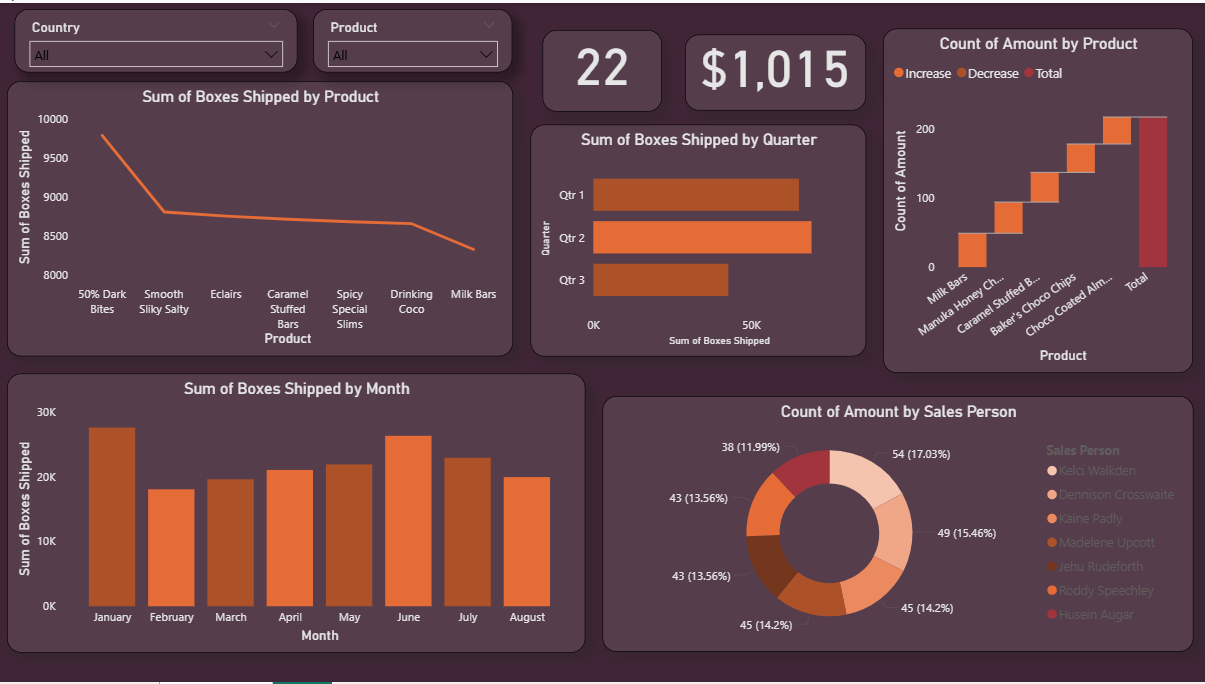

What the dashboard file says about the page in this screenshot:
{"tool":"powerbi","page":{"name":"Page 1","canvas":[1280,720],"ordinal":0},"visuals":[{"type":"clusteredBarChart","fields":{"Category":["Chocolate Sales.Date.Variation.Date Hierarchy.Quarter"],"Y":["Chocolate Sales.Boxes Shipped"]},"box":[565.4,128.8,355.8,246.2],"z":0},{"type":"clusteredColumnChart","fields":{"Category":["Chocolate Sales.Date.Variation.Date Hierarchy.Month"],"Y":["Chocolate Sales.Boxes Shipped"]},"box":[9.6,392.3,613.5,296.2],"z":1000},{"type":"donutChart","fields":{"Category":["Chocolate Sales.Sales Person"],"Y":["Chocolate Sales.Amount"]},"box":[640.4,417.3,626.9,271.2],"z":2000},{"type":"lineChart","fields":{"Category":["Chocolate Sales.Product"],"Y":["Chocolate Sales.Boxes Shipped"]},"box":[9.6,82.7,536.5,292.3],"z":3000},{"type":"waterfallChart","fields":{"Category":["Chocolate Sales.Product"],"Y":["Chocolate Sales.Amount"]},"box":[938.5,26.9,328.8,365.4],"z":4000},{"type":"card","fields":{"Values":["Chocolate Sales.Amount"]},"box":[728.8,32.7,192.3,80.8],"z":5000},{"type":"card","fields":{"Values":["Chocolate Sales.Product"]},"box":[576.9,28.8,126.9,86.5],"z":6000},{"type":"slicer","fields":{"Values":["Chocolate Sales.Country"]},"box":[17.3,5.8,300,67.3],"z":7000},{"type":"slicer","fields":{"Values":["Chocolate Sales.Product"]},"box":[334.6,5.8,211.5,67.3],"z":8000}]}

Visuals, with their boxes in screenshot pixels (x1, y1, x2, y2), scaled from the page's 1280x720 canvas onto the 1205x684 screenshot:
clusteredBarChart - Chocolate Sales.Date.Variation.Date Hierarchy.Quarter x Chocolate Sales.Boxes Shipped: box(532, 122, 867, 356)
clusteredColumnChart - Chocolate Sales.Date.Variation.Date Hierarchy.Month x Chocolate Sales.Boxes Shipped: box(9, 373, 587, 654)
donutChart - Chocolate Sales.Sales Person x Chocolate Sales.Amount: box(603, 396, 1193, 654)
lineChart - Chocolate Sales.Product x Chocolate Sales.Boxes Shipped: box(9, 79, 514, 356)
waterfallChart - Chocolate Sales.Product x Chocolate Sales.Amount: box(884, 26, 1193, 373)
card - Chocolate Sales.Amount: box(686, 31, 867, 108)
card - Chocolate Sales.Product: box(543, 27, 663, 110)
slicer - Chocolate Sales.Country: box(16, 6, 299, 69)
slicer - Chocolate Sales.Product: box(315, 6, 514, 69)
